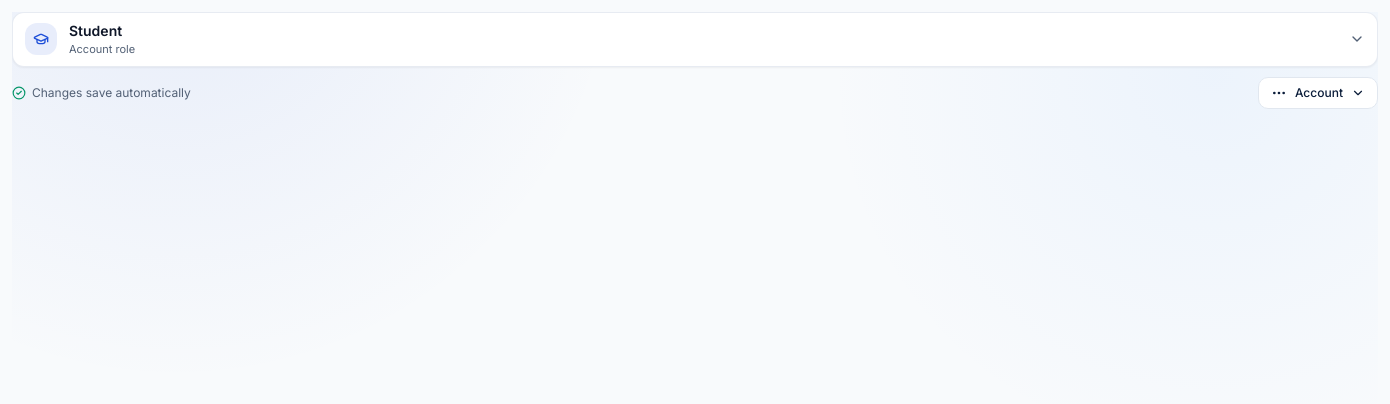
Test: UserRoleEditor sponsor choices › assigns district administration from the same polished role control
Press ArrowDown in the dropdown named "role for teacher", box top-left (12, 12), bottom-right (1378, 66)
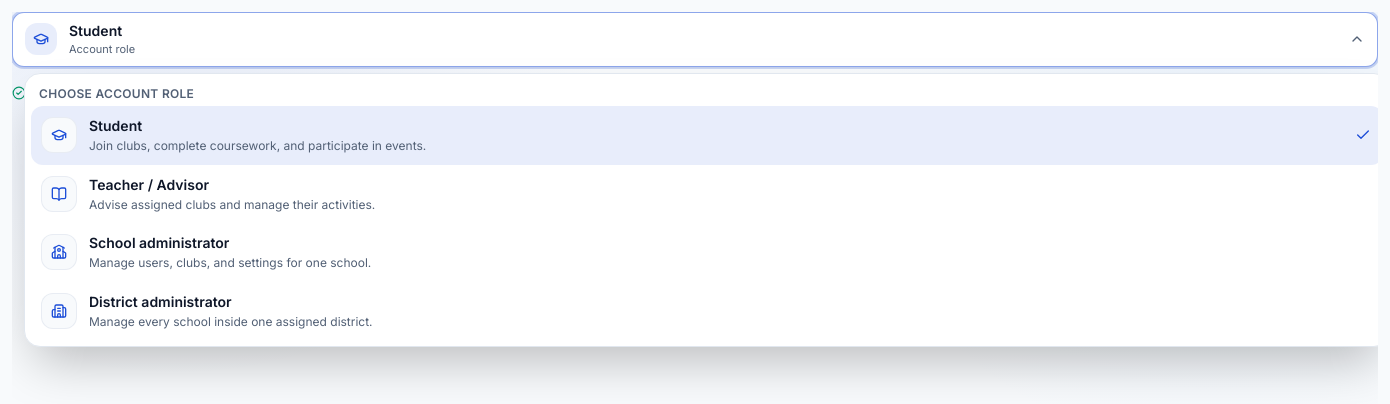
Click the option "District administrator": x=207, y=311 top-left (41, 292), bottom-right (373, 329)
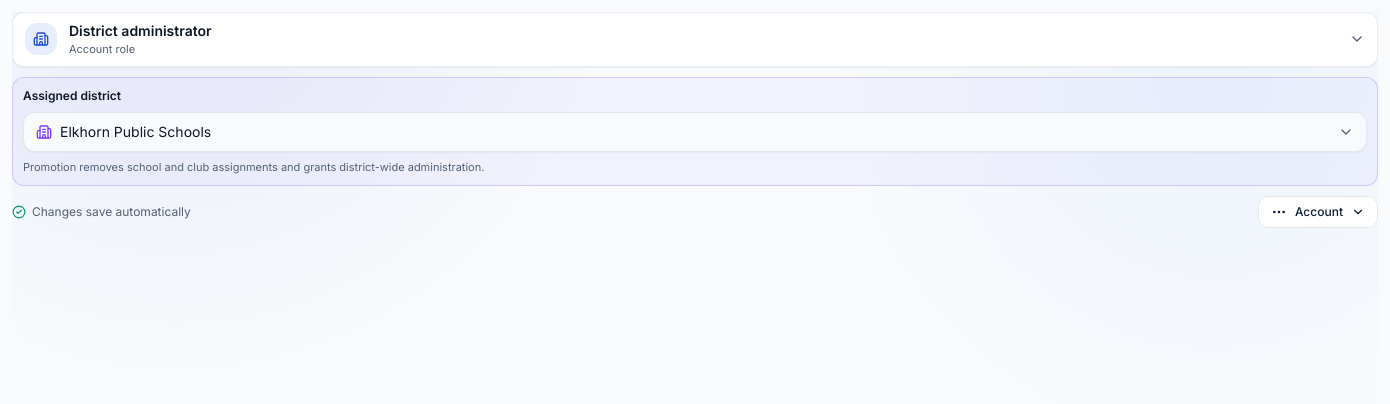
expect the dropdown named "district for teacher" reads "Elkhorn Public Schools": met, box top-left (23, 112), bottom-right (1367, 152)
